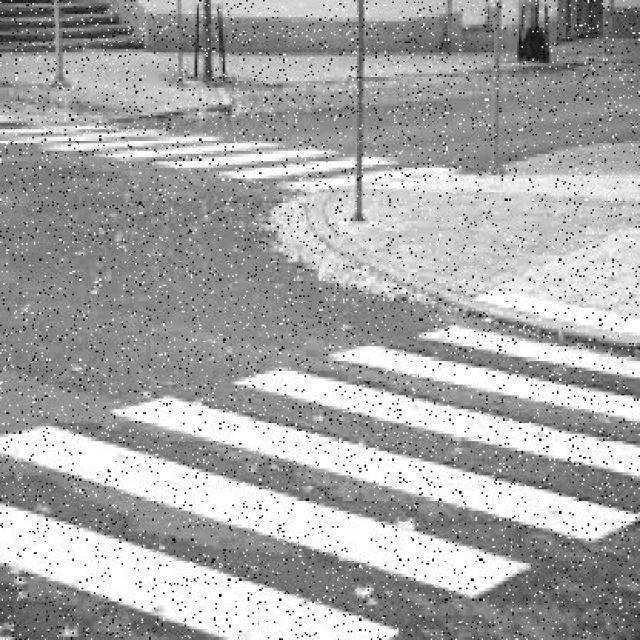Pedestrian crosswalk: (2, 308, 640, 637), (1, 116, 470, 193)
